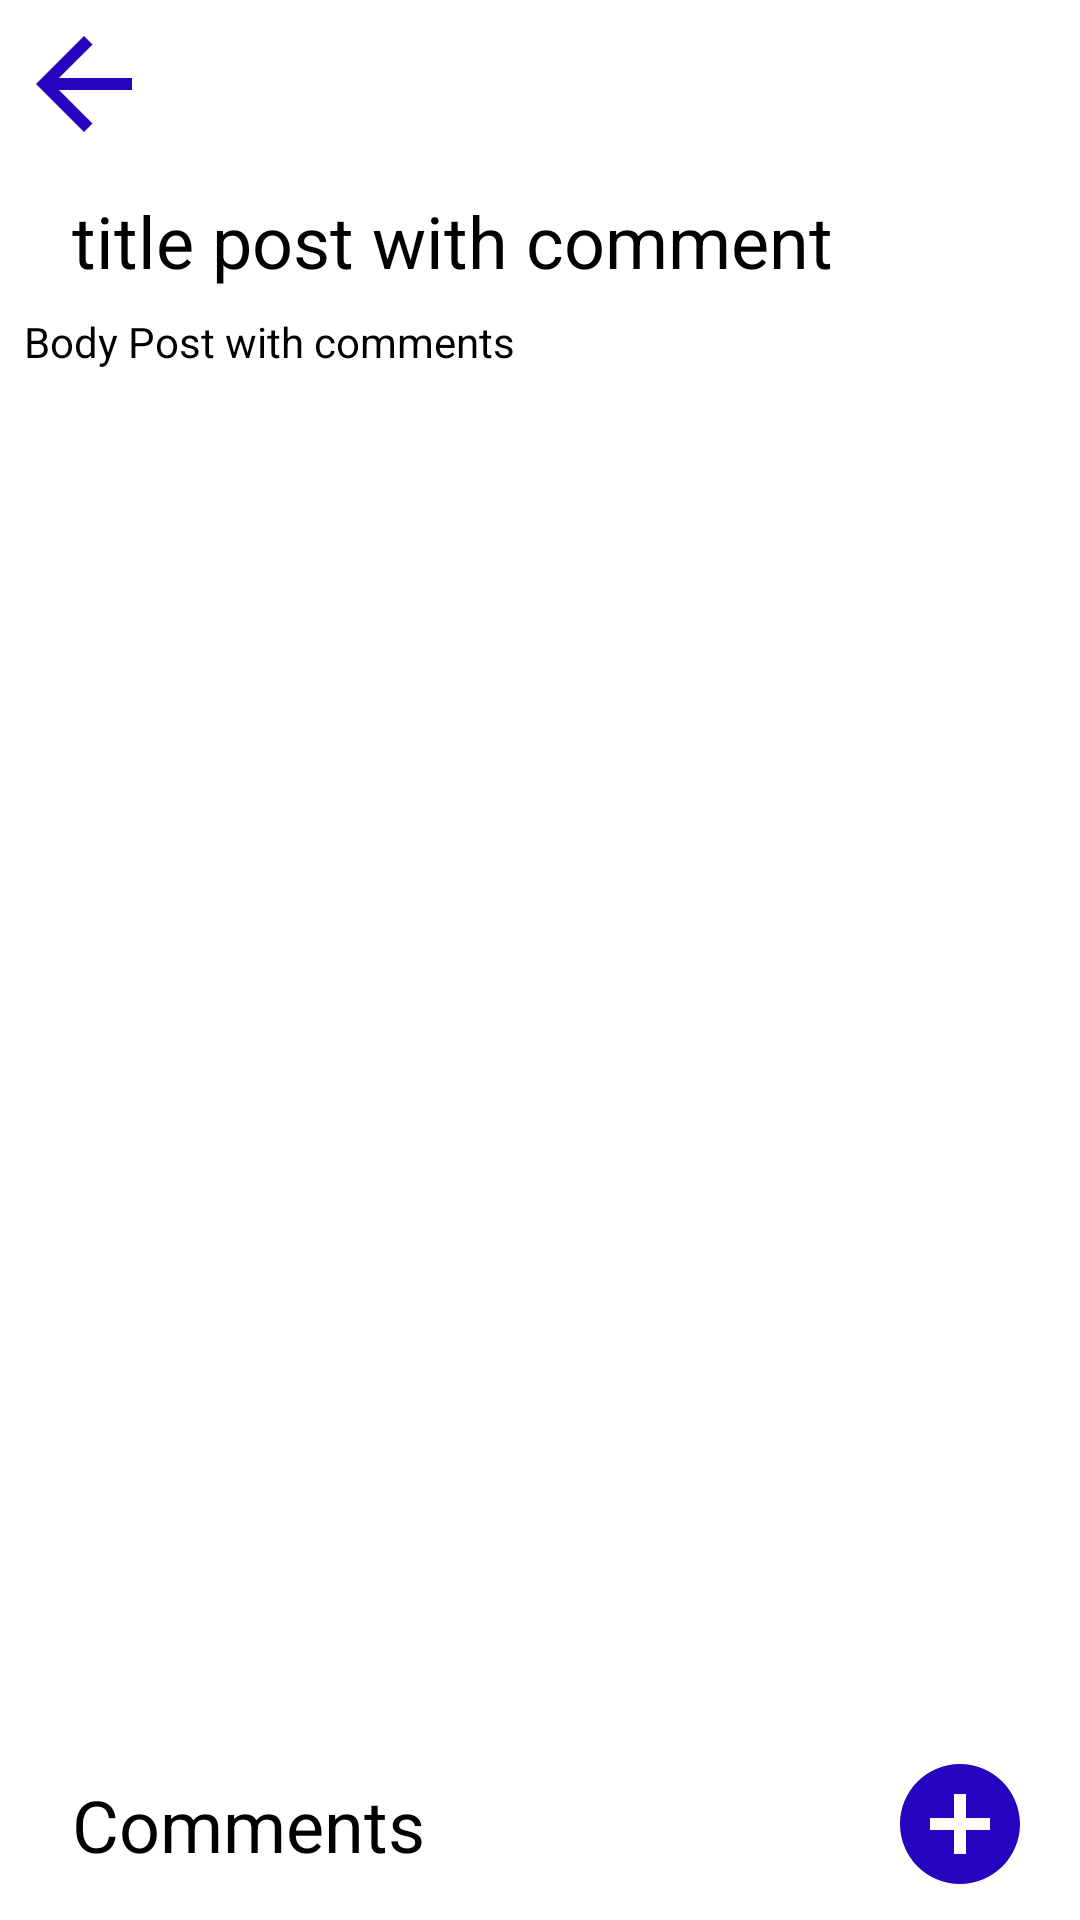

Icons on this 1080w x 1920h Android screen, each with the point to tap as (x=x, y=y):
add post: (x=960, y=1824)
back: (x=84, y=84)
